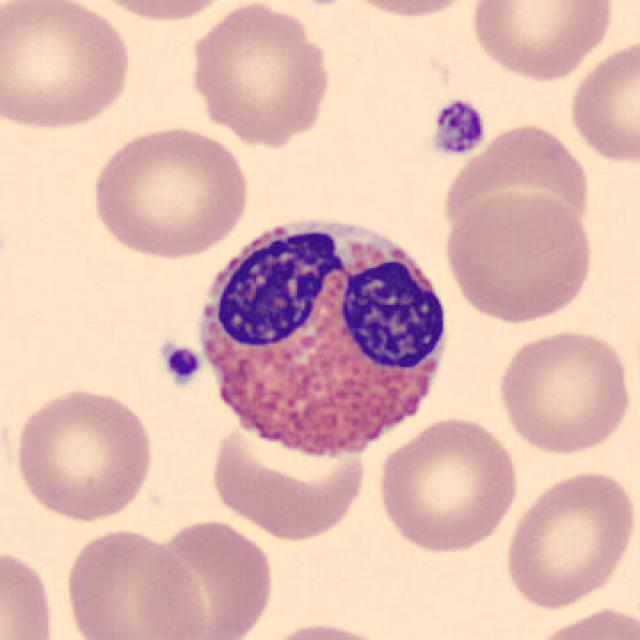Eosinophil: (187, 205, 460, 474)
Platelets: (427, 97, 489, 159), (158, 340, 204, 388), (298, 0, 348, 9)
RBC: (86, 122, 254, 261), (183, 0, 334, 148), (373, 412, 523, 556), (441, 187, 597, 324), (11, 382, 158, 524), (438, 118, 596, 249), (500, 465, 638, 612), (492, 326, 634, 458), (0, 0, 137, 134), (135, 513, 279, 640), (58, 523, 209, 640), (466, 0, 618, 83), (566, 37, 638, 166), (0, 541, 59, 640), (521, 604, 640, 640), (80, 0, 245, 25), (251, 617, 404, 640), (334, 0, 486, 21)
